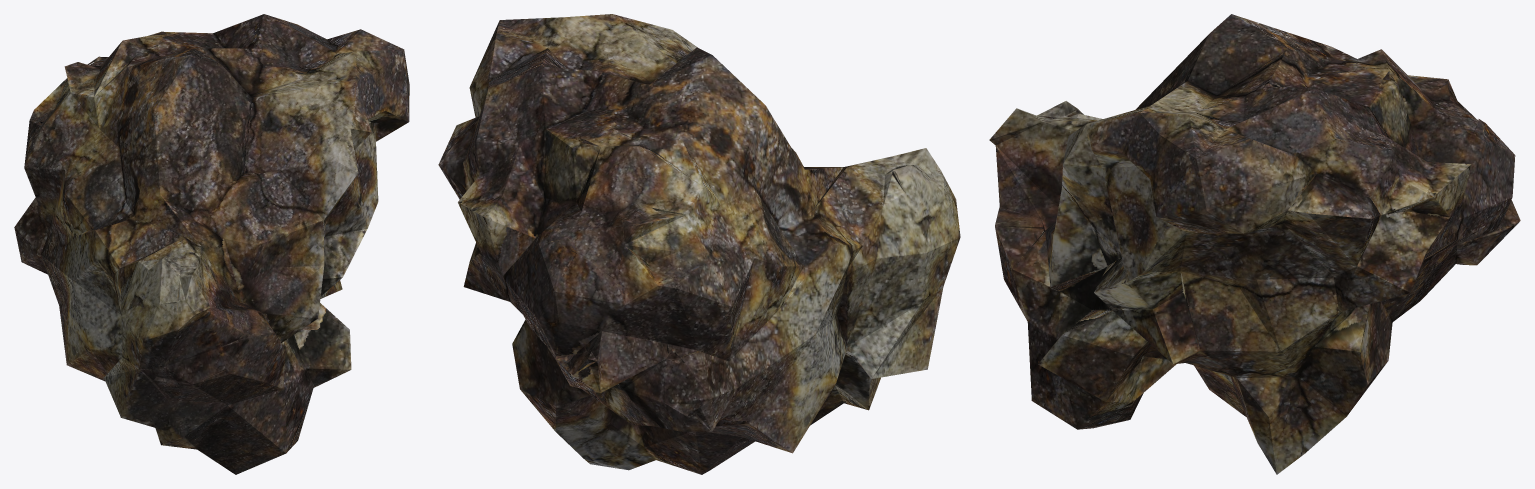
File: MIL07411-0.fbx
3 views of the same model, side by side, from view 1: azimuth 30°, elevation 25°; view 2: azimuth 150°, elevation 25°; view 3: azimuth 270°, elevation 25° (orthographic). The views are drawn at different scales.
Visible parts, largest first — view 1: MIL07411-0; view 2: MIL07411-0; view 3: MIL07411-0.
Boxes of the visible parts, x1,y1,x2,y2 form: MIL07411-0: (14, 14, 409, 474); MIL07411-0: (438, 14, 960, 474); MIL07411-0: (989, 14, 1520, 474).
Size of the model in its own units: 22.69 by 23.59 by 26.94.
